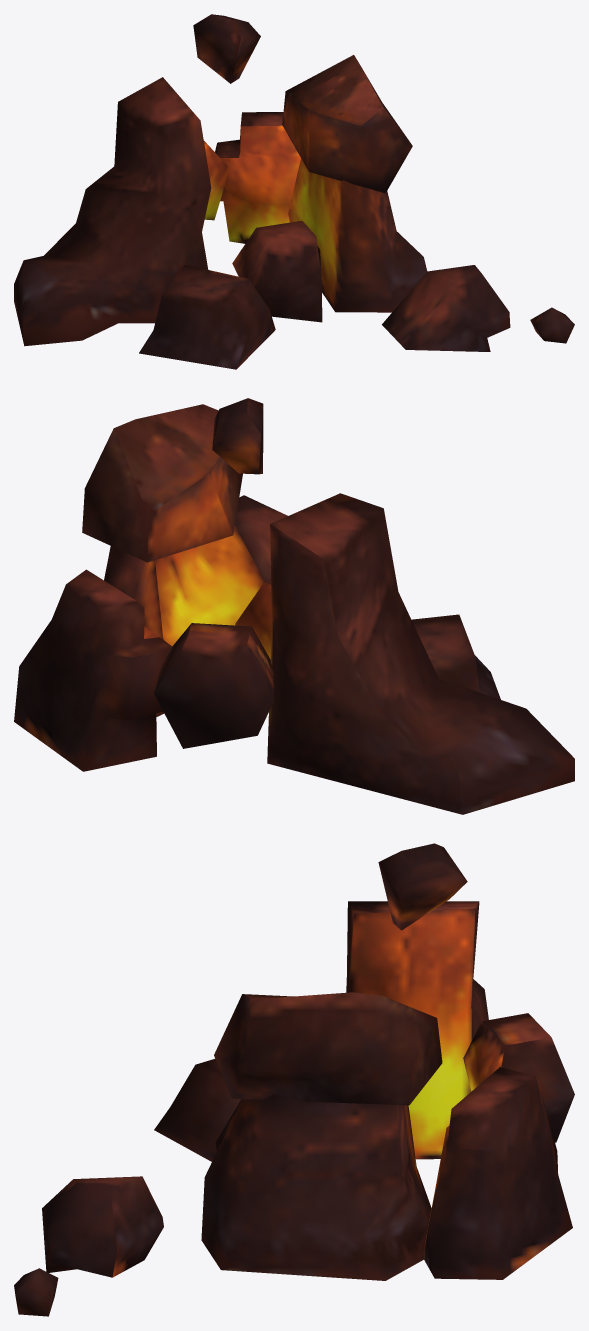
Rendered from huoguanpenghuoshizhu02.FBX.
The picture shows the model from 3 angles, top to bottom: view 1: azimuth 30°, elevation 25°; view 2: azimuth 150°, elevation 25°; view 3: azimuth 270°, elevation 25°; orthographic projection. The views are drawn at different scales.
Parts seen in each view (by area): view 1: huoguanpenghuoshizhu2; view 2: huoguanpenghuoshizhu2; view 3: huoguanpenghuoshizhu2.
Boxes of the visible parts, x1,y1,x2,y2 form: huoguanpenghuoshizhu2: [14, 14, 574, 369]; huoguanpenghuoshizhu2: [14, 398, 574, 814]; huoguanpenghuoshizhu2: [14, 843, 574, 1316].
Bounding box in the file's own units: 518 × 446 × 305.
